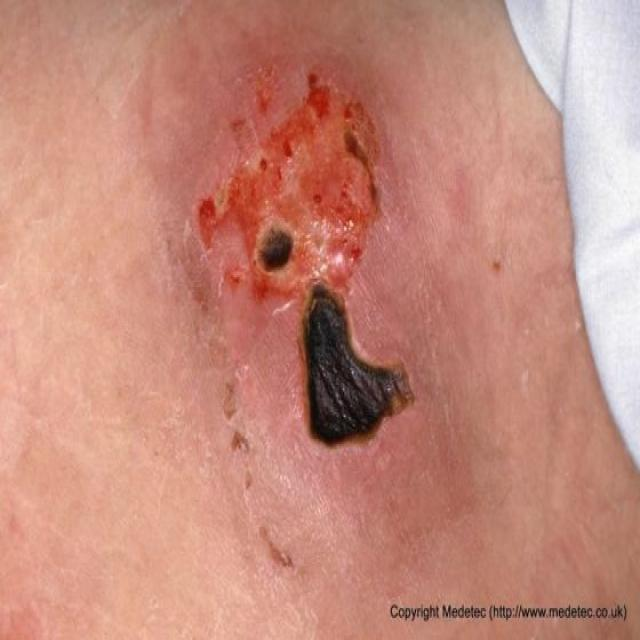Unstageable: (199, 74, 412, 442)
